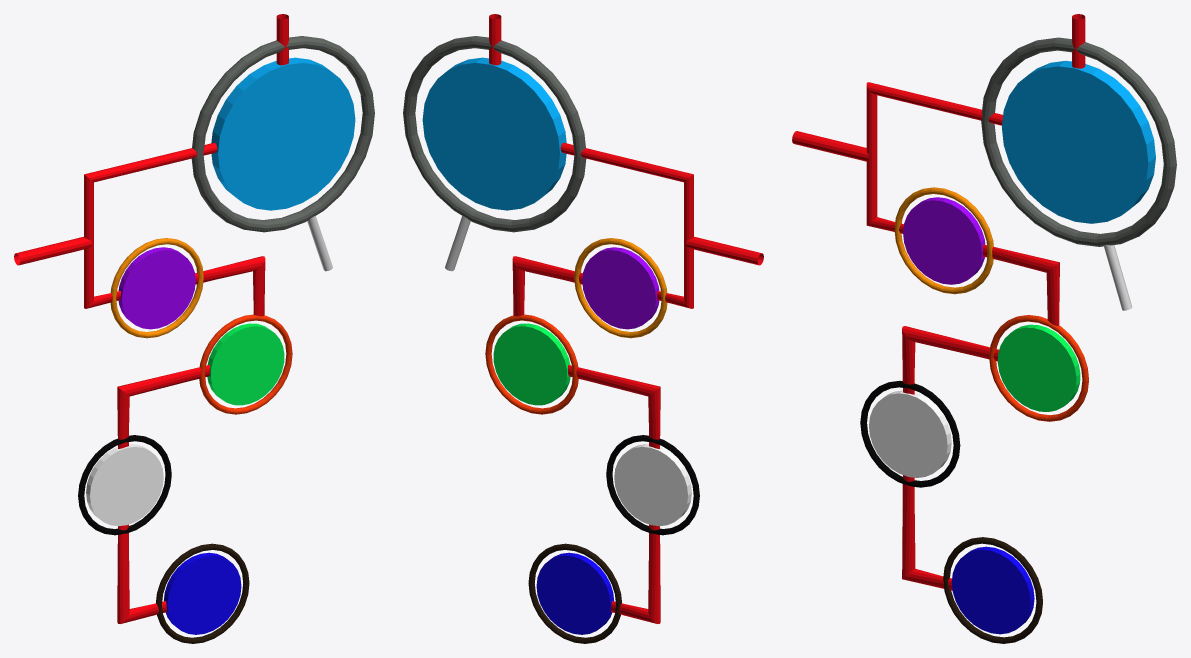
Rendered from 1 vita.FBX.
3 renders of one model, left to right at view 1: azimuth 30°, elevation 25°; view 2: azimuth 150°, elevation 25°; view 3: azimuth 330°, elevation 25°, orthographic. The views are drawn at different scales.
Parts seen in each view (by area): view 1: Cerchio Vita, Struttura, Object001, PowerUp_01, PowerUp_04, PowerUp_03, PowerUp_02, Anello_04, Anello_02, Anello_01, Anello_03, Cylinder001; view 2: Cerchio Vita, Struttura, Object001, PowerUp_01, PowerUp_04, PowerUp_03, PowerUp_02, Anello_04, Anello_02, Anello_01, Anello_03, Cylinder001; view 3: Cerchio Vita, Struttura, Object001, PowerUp_04, PowerUp_02, PowerUp_03, PowerUp_01, Anello_04, Anello_01, Anello_03, Anello_02, Cylinder001.
Part boxes in pixels (box(x1,y1,x2,y2)): Cerchio Vita: box(211, 57, 355, 210); Struttura: box(14, 14, 288, 623); Object001: box(191, 36, 374, 232); PowerUp_01: box(118, 247, 195, 329); PowerUp_04: box(164, 552, 241, 634); PowerUp_03: box(86, 444, 163, 526); PowerUp_02: box(207, 323, 284, 405); Anello_04: box(156, 543, 249, 643); Anello_02: box(199, 314, 292, 414); Anello_01: box(110, 238, 203, 338); Anello_03: box(78, 435, 171, 535); Cylinder001: box(307, 216, 332, 271); Cerchio Vita: box(422, 57, 566, 210); Struttura: box(489, 14, 763, 623); Object001: box(403, 36, 586, 232); PowerUp_01: box(582, 247, 659, 329); PowerUp_04: box(536, 552, 613, 634); PowerUp_03: box(614, 444, 691, 526); PowerUp_02: box(493, 323, 570, 405); Anello_04: box(528, 543, 621, 643); Anello_02: box(485, 314, 578, 414); Anello_01: box(574, 238, 667, 338); Anello_03: box(606, 435, 699, 535); Cylinder001: box(445, 216, 470, 271); Cerchio Vita: box(1002, 60, 1155, 223); Struttura: box(792, 14, 1085, 590); Object001: box(981, 37, 1176, 246); PowerUp_04: box(951, 546, 1034, 634); PowerUp_02: box(997, 324, 1080, 411); PowerUp_03: box(869, 390, 951, 477); PowerUp_01: box(903, 197, 985, 284); Anello_04: box(943, 537, 1042, 643); Anello_01: box(894, 187, 993, 294); Anello_03: box(860, 380, 960, 487); Anello_02: box(989, 315, 1088, 421); Cylinder001: box(1103, 244, 1132, 310).
Size of the model in its own units: 125 by 203 by 4.37.
